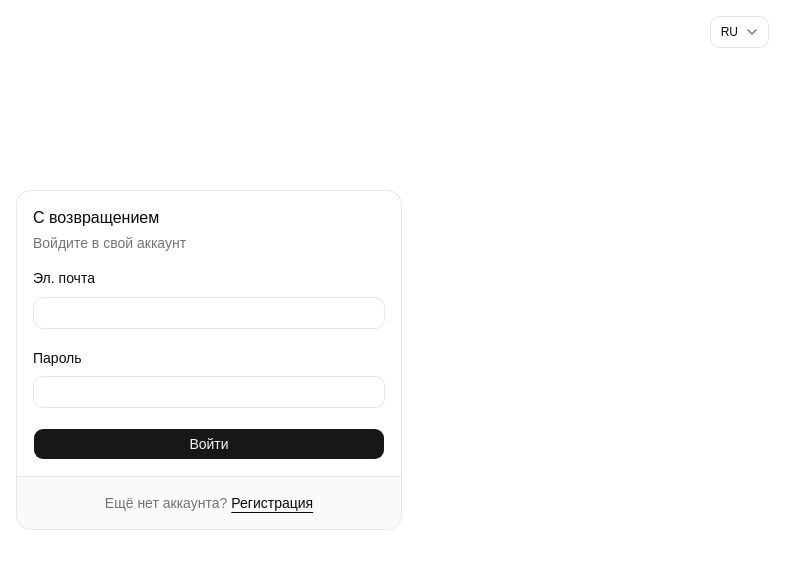
Test: sign-in form › validates in Russian, ties each message to its input and sends nothing
The image size is (785, 575).
Click the button "Войти".
click(209, 444)  # box [33, 428, 385, 460]
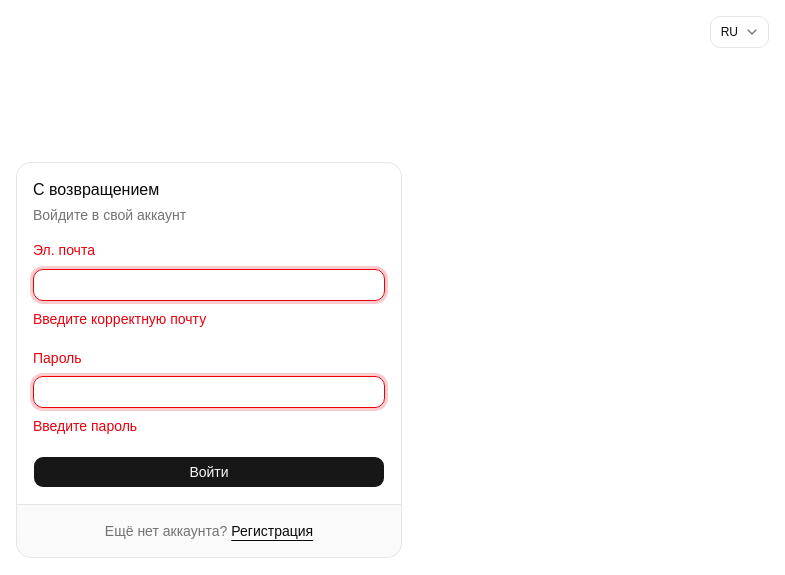
Now the message "Введите корректную почту" is shown, box [33, 310, 206, 326]
